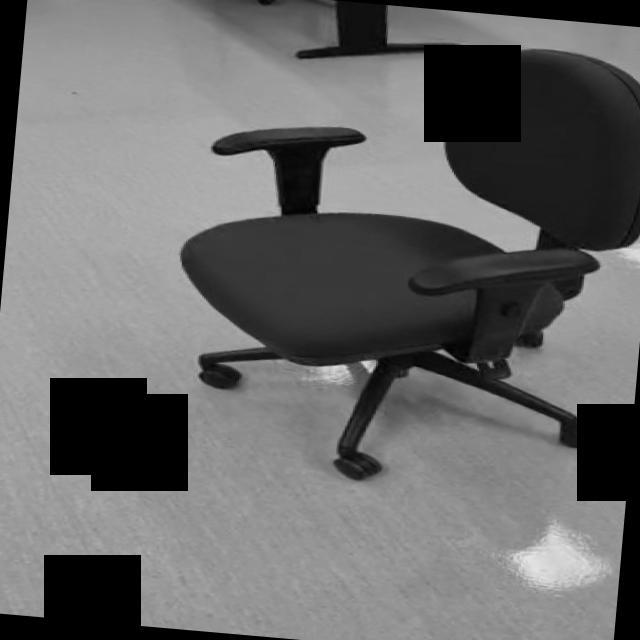chair: (159, 16, 640, 505)
